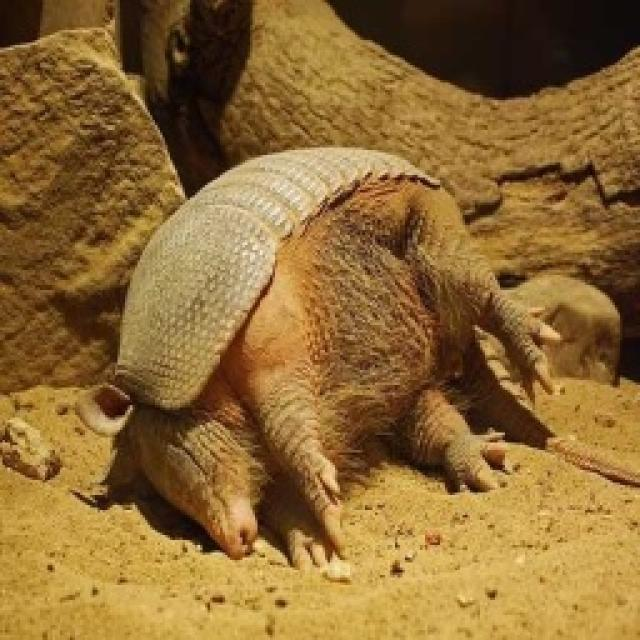not_pig: (75, 142, 637, 580)
